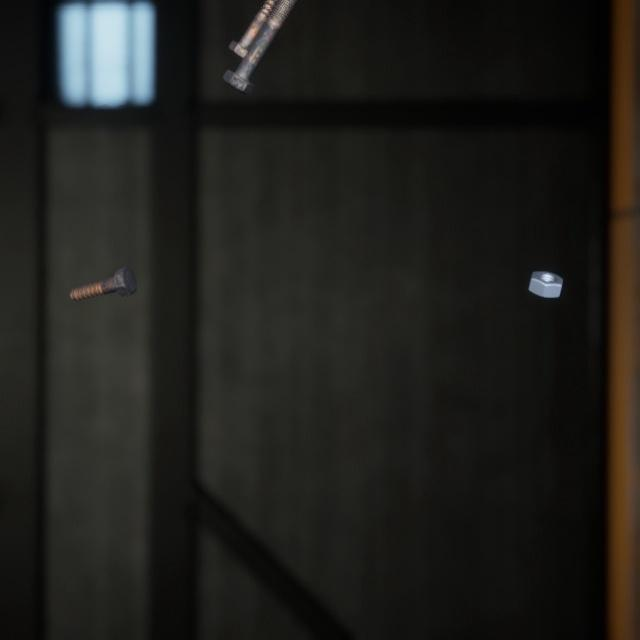bolt: (218, 0, 296, 89), (65, 245, 141, 288), (224, 0, 277, 54)
nut: (523, 249, 567, 285)
